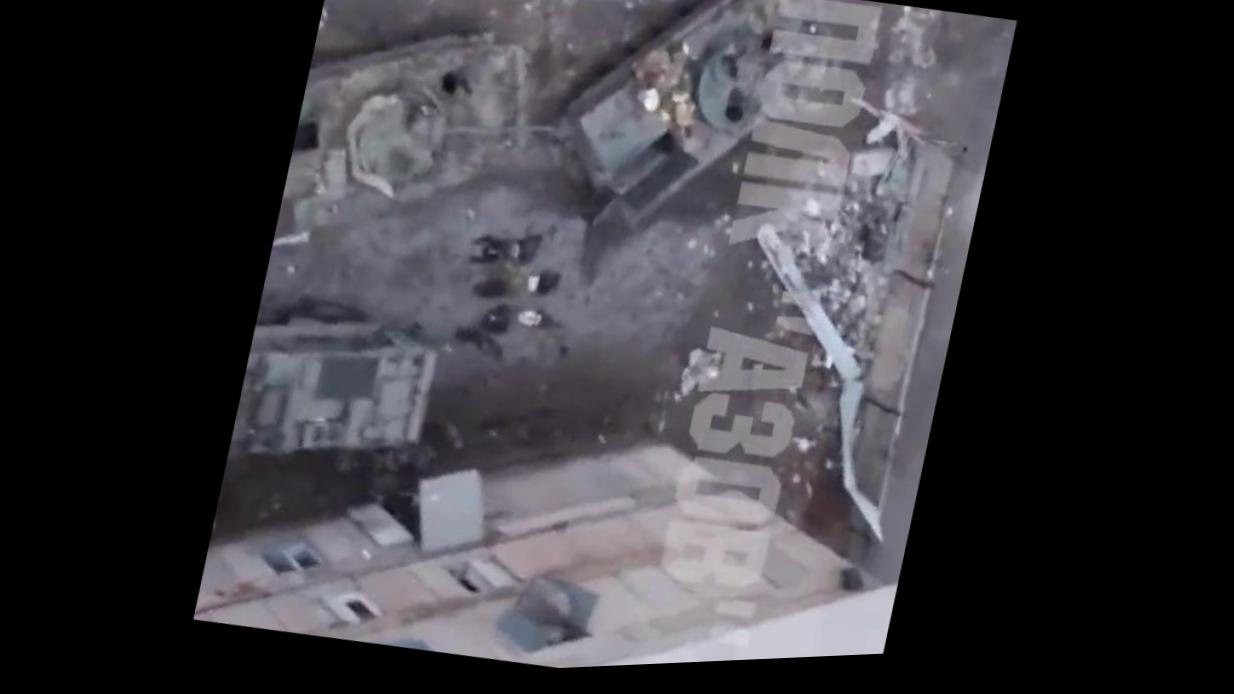person: (468, 222, 549, 276), (476, 260, 559, 310), (478, 297, 555, 344), (443, 327, 510, 369)
tank: (525, 0, 841, 265), (273, 1, 546, 269)
truck: (223, 282, 449, 499)
